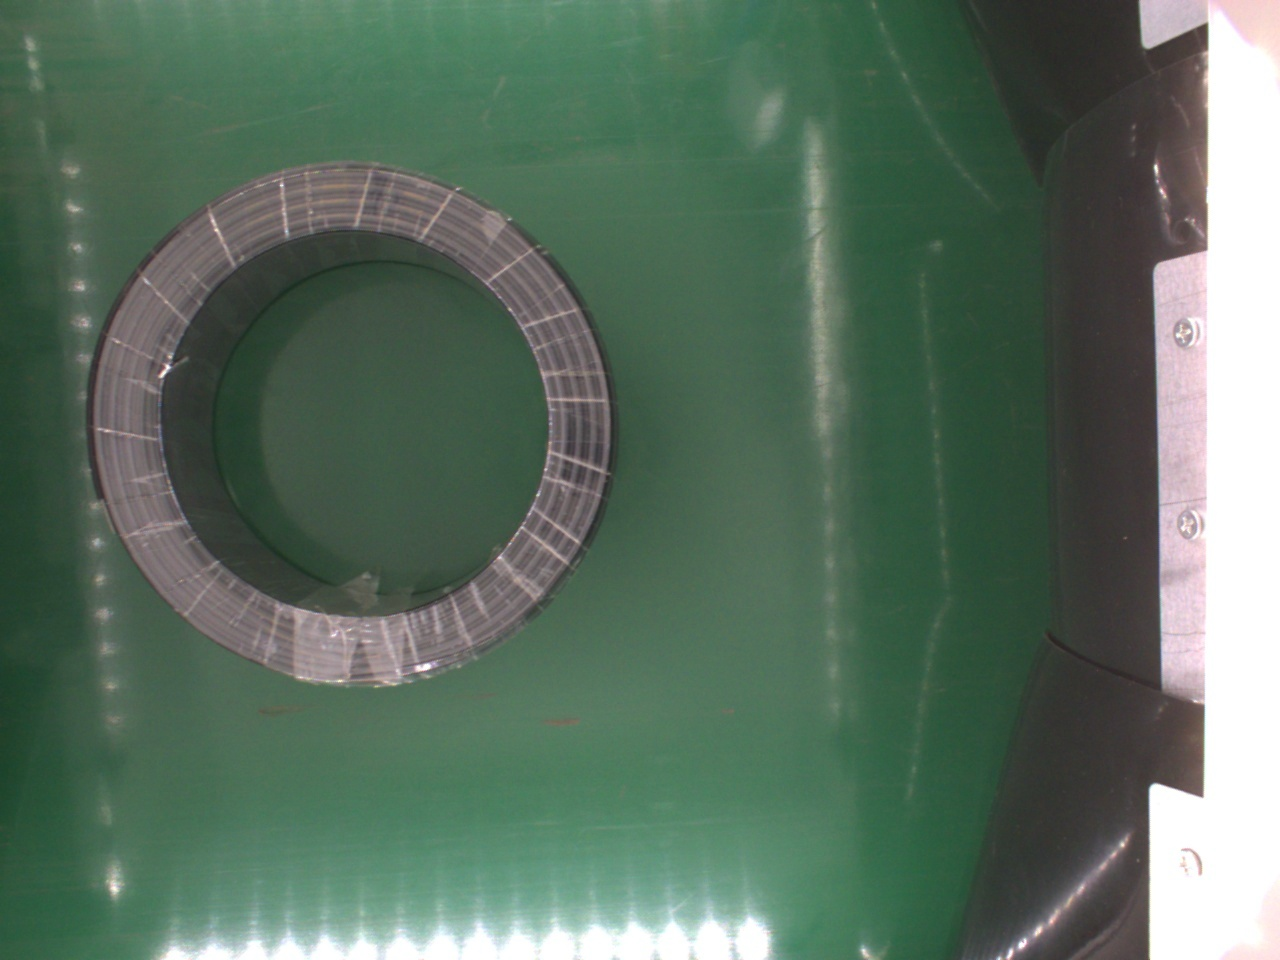black: (81, 156, 616, 692)
